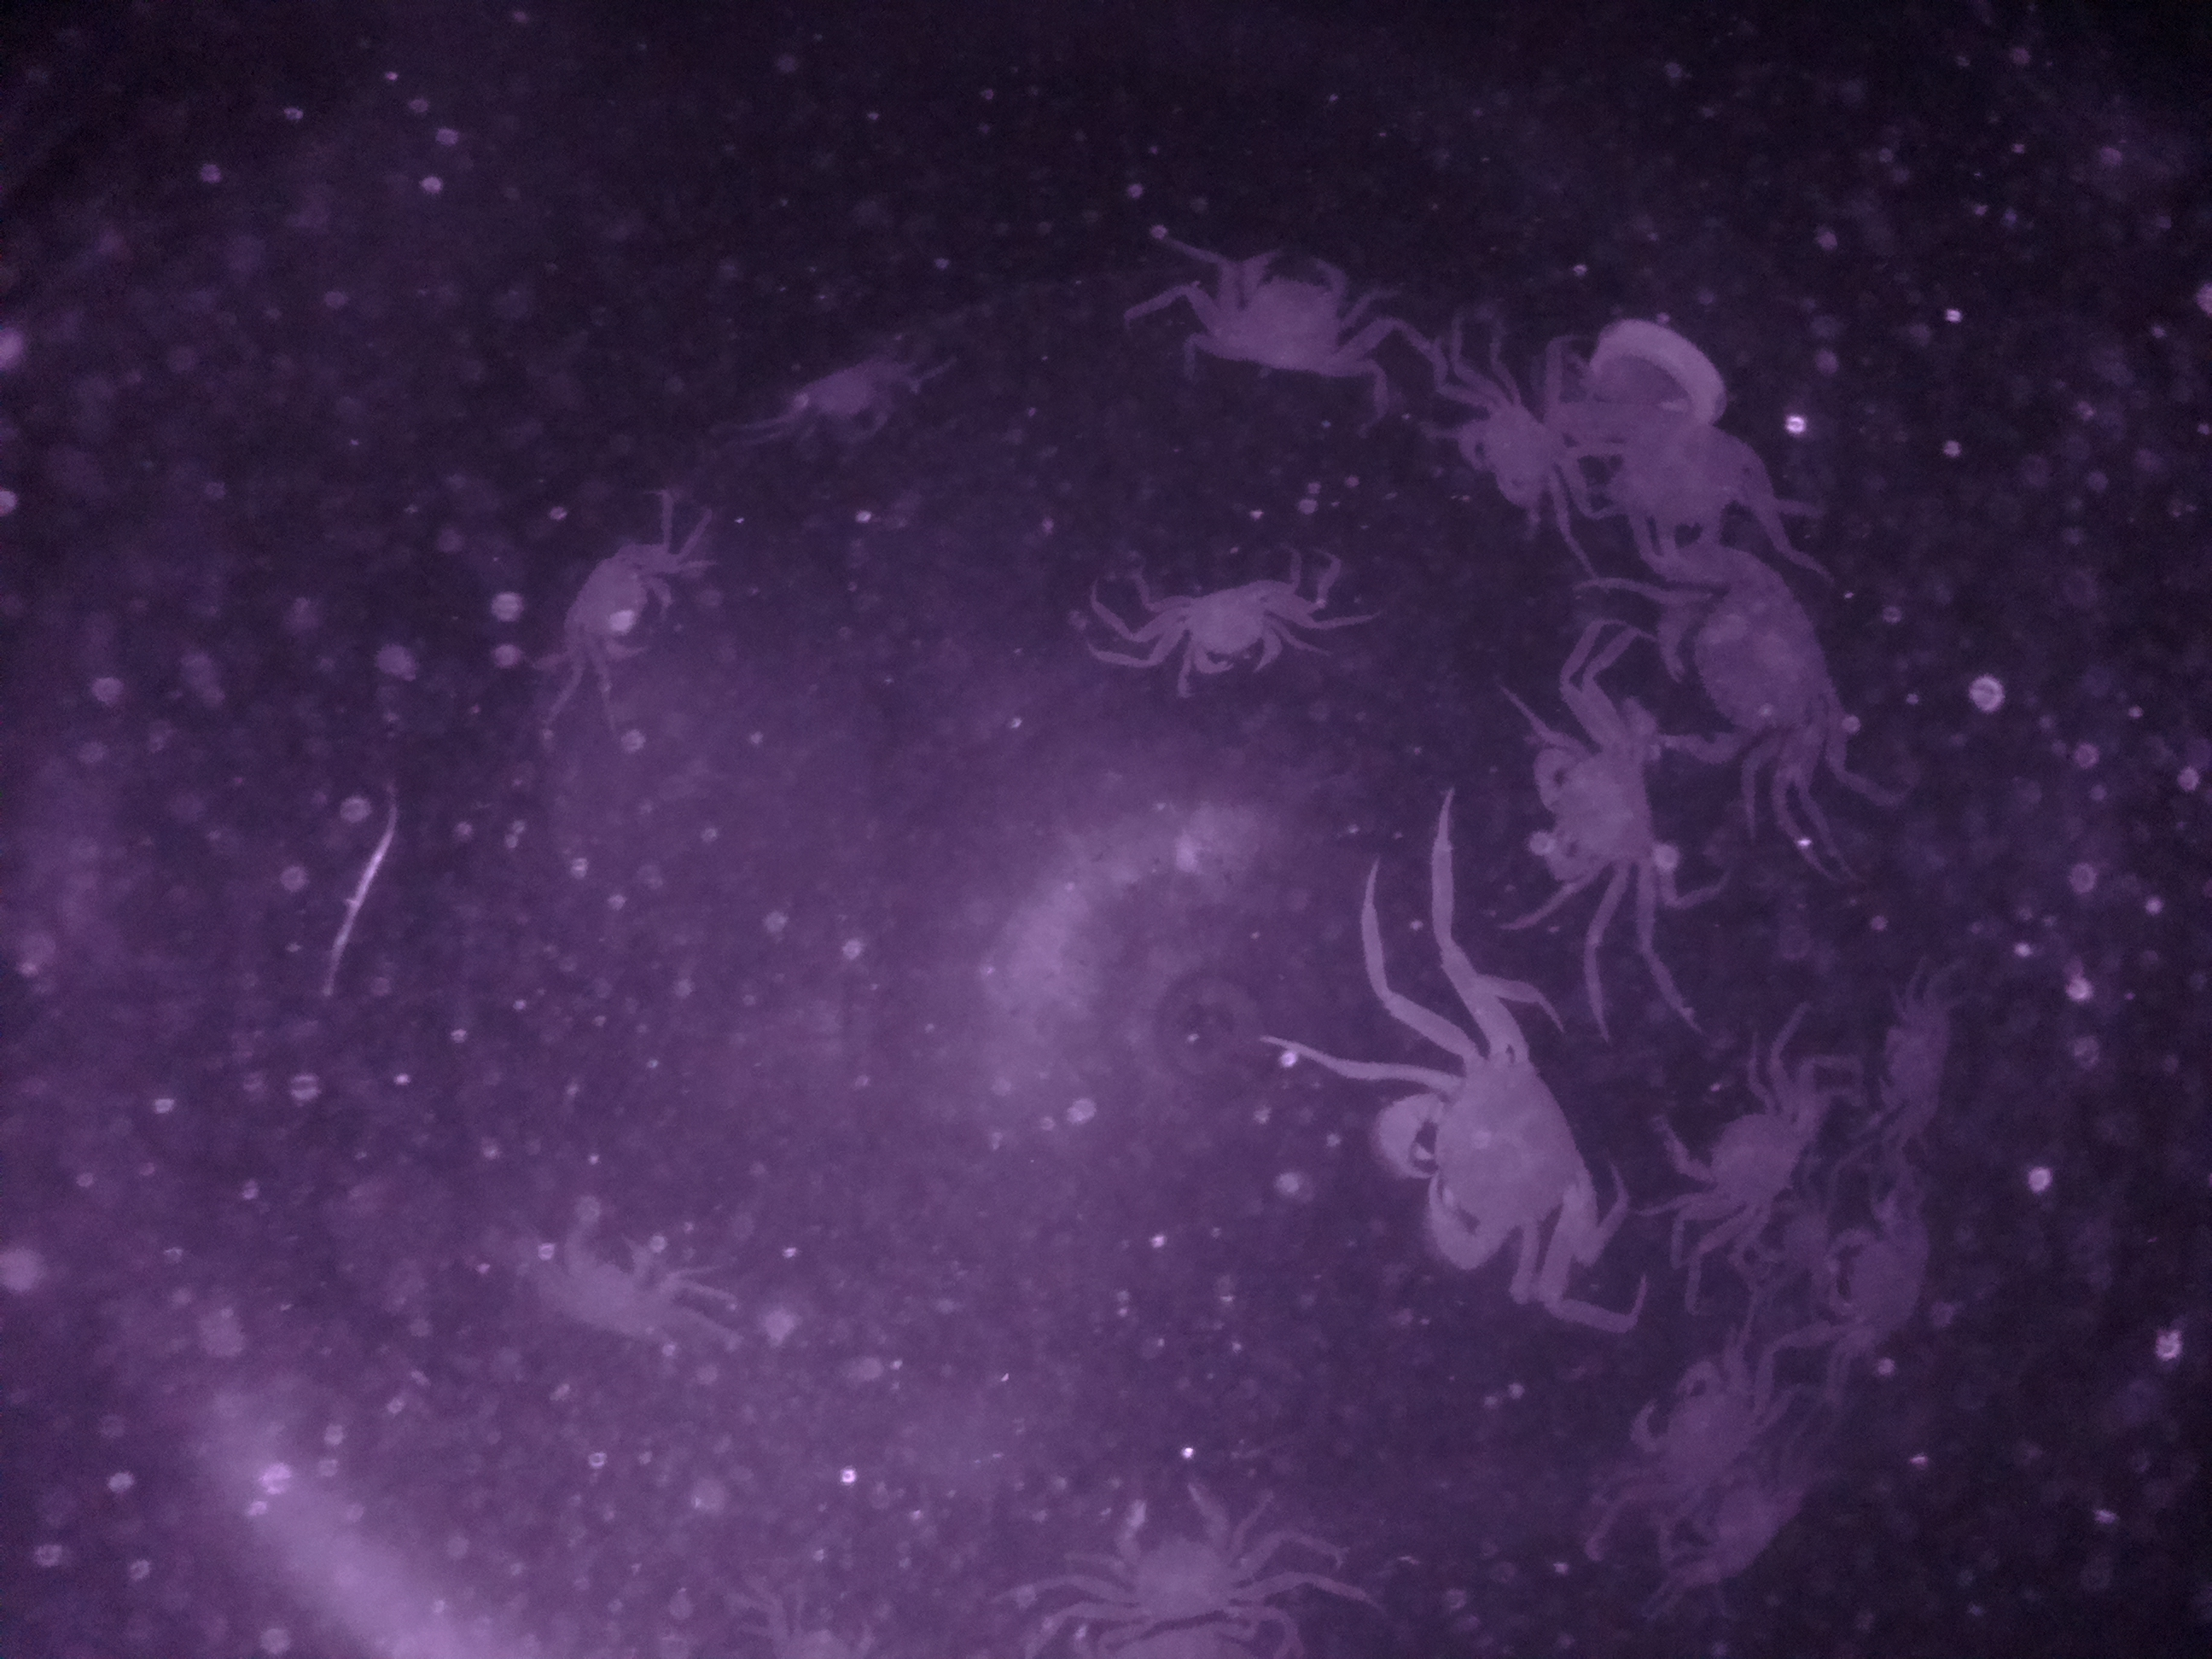Crab: (1338, 1014, 1622, 1309), (1623, 544, 1872, 791), (1655, 1056, 1822, 1265), (1082, 1462, 1261, 1643), (1524, 701, 1670, 918), (1615, 1338, 1785, 1525), (1186, 242, 1376, 387), (1143, 561, 1299, 694), (1451, 366, 1575, 523)
